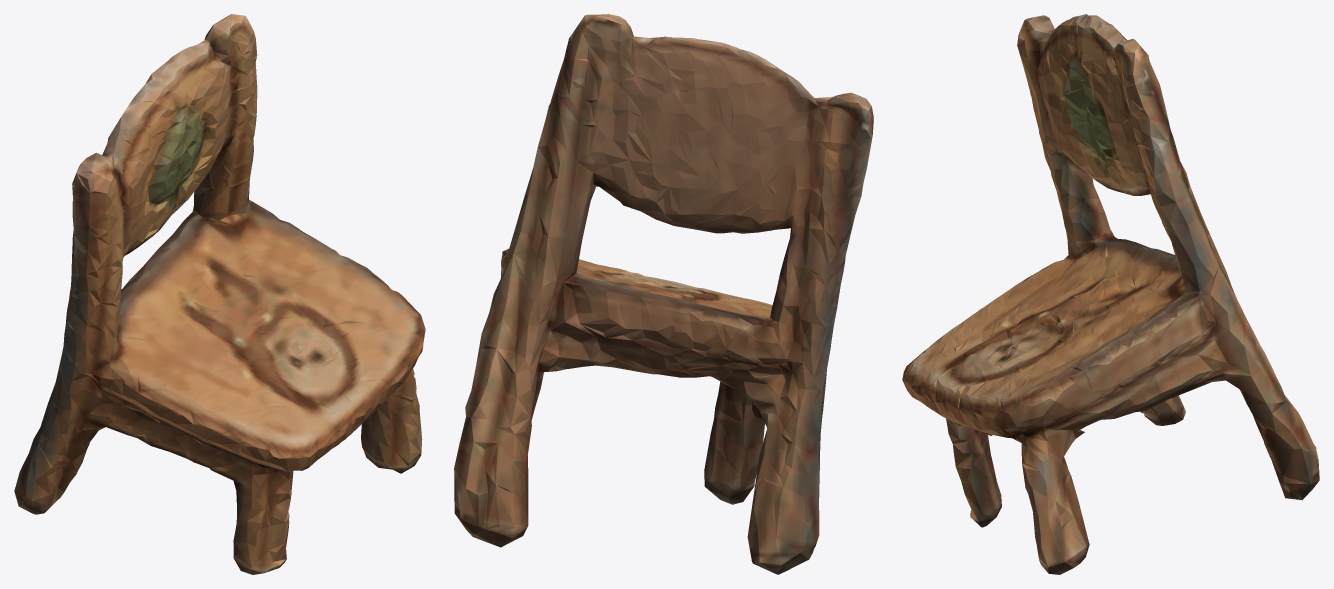
Rendered from daycare_kidchair.glb.
3 views of the same model, side by side, from view 1: azimuth 30°, elevation 25°; view 2: azimuth 150°, elevation 25°; view 3: azimuth 270°, elevation 25° (orthographic). The views are drawn at different scales.
Visible parts, largest first — view 1: geometry_0; view 2: geometry_0; view 3: geometry_0.
Boxes of the visible parts, left/top/right/bottom form: geometry_0: left=14, top=14, right=425, bottom=574; geometry_0: left=454, top=14, right=873, bottom=574; geometry_0: left=902, top=14, right=1319, bottom=574.
Size of the model in its own units: 0.4121 by 0.55 by 0.4148.
1 material, 1 textured.
